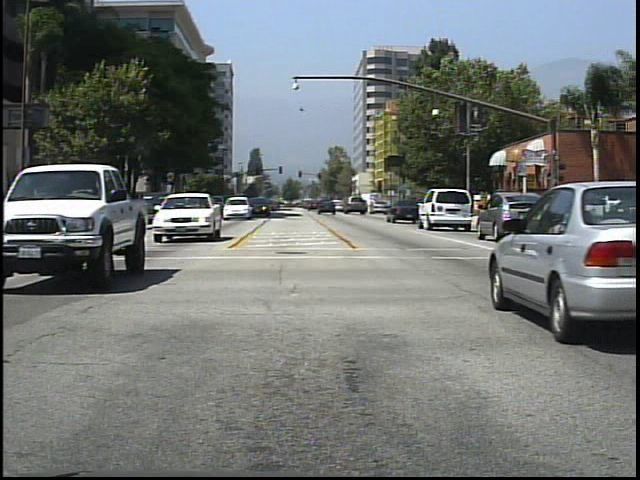person: (493, 190, 512, 228), (454, 192, 472, 228)
